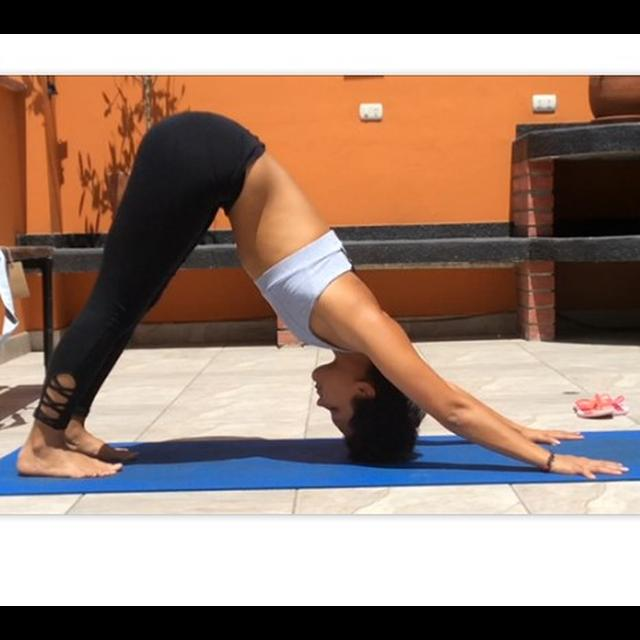Downward-Facing_Dog: (13, 108, 632, 480)
